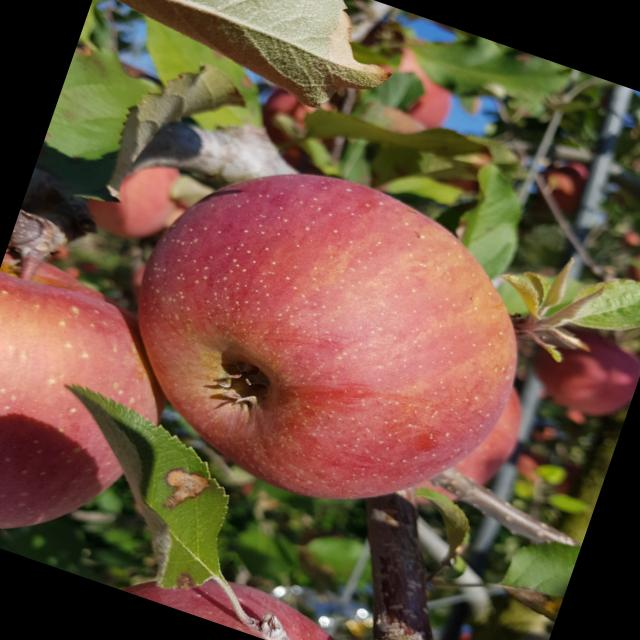fresh: (82, 114, 577, 562)
